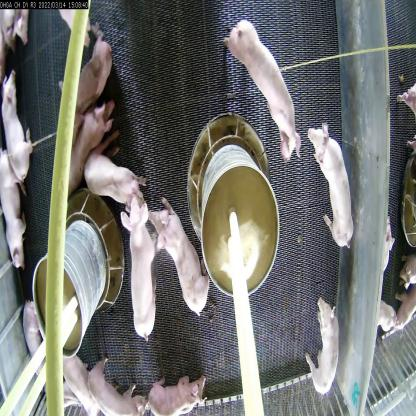Pig: (226, 20, 298, 165), (153, 198, 214, 314), (306, 114, 352, 252), (120, 195, 161, 346), (87, 129, 151, 214), (62, 33, 118, 121), (60, 107, 115, 192), (2, 73, 38, 186), (305, 296, 341, 394), (84, 357, 144, 415), (144, 368, 215, 415), (0, 163, 26, 275)
